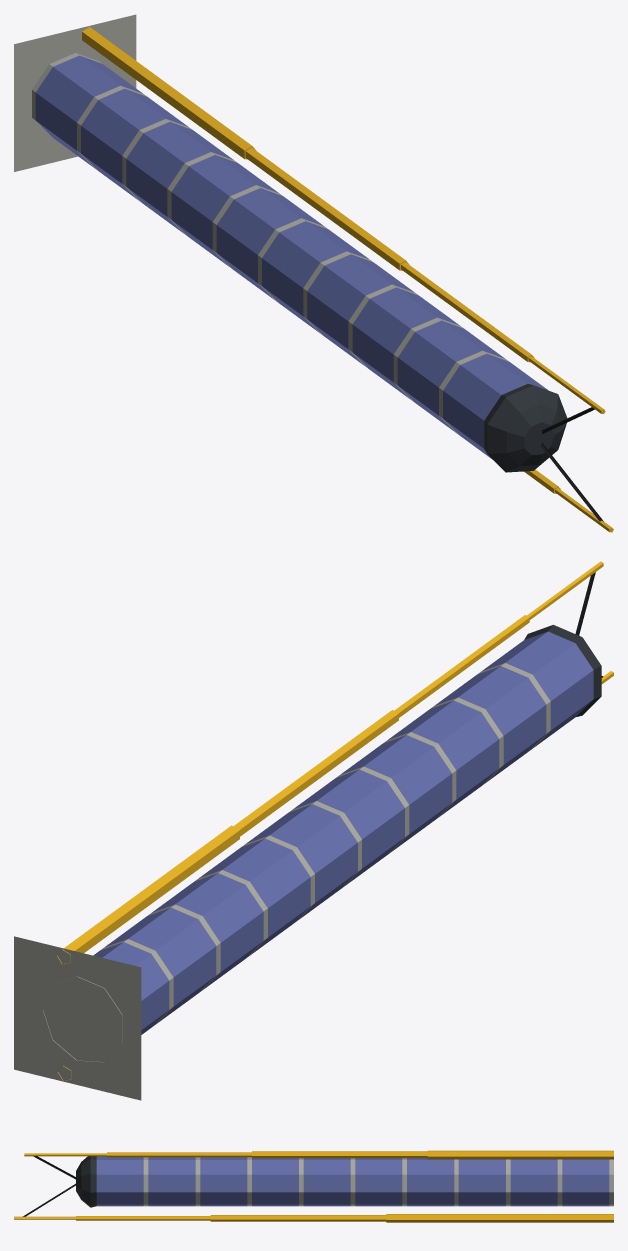
File: complete.glb
The picture shows the model from 3 angles, top to bottom: view 1: azimuth 30°, elevation 25°; view 2: azimuth 150°, elevation 25°; view 3: azimuth 270°, elevation 25°; orthographic projection. The views are drawn at different scales.
Visible parts, largest first — view 1: complete; view 2: complete; view 3: complete.
Boxes of the visible parts, <box> form: complete: <box>14,14,613,532</box>; complete: <box>14,561,613,1100</box>; complete: <box>14,1150,613,1222</box>.
Size of the model in its own units: 15.6 by 15.6 by 116.
